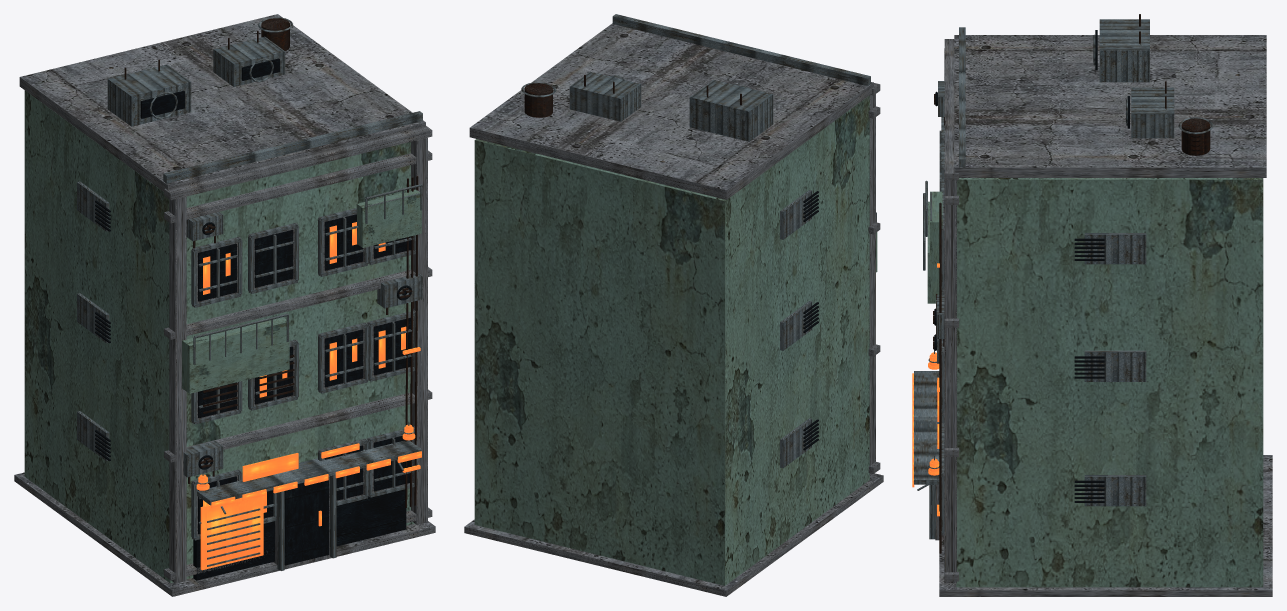
Rendered from implants-building.glb.
3 views of the same model, side by side, from view 1: azimuth 30°, elevation 25°; view 2: azimuth 150°, elevation 25°; view 3: azimuth 270°, elevation 25° (orthographic). The views are drawn at different scales.
Visible parts, largest first — view 1: Implants; view 2: Implants; view 3: Implants.
Boxes of the visible parts, x1,y1,x2,y2 form: Implants: (14, 14, 435, 596); Implants: (464, 14, 883, 596); Implants: (912, 14, 1272, 596).
Bounding box in the file's own units: 8 × 13 × 9.
6 materials, 6 textured.
